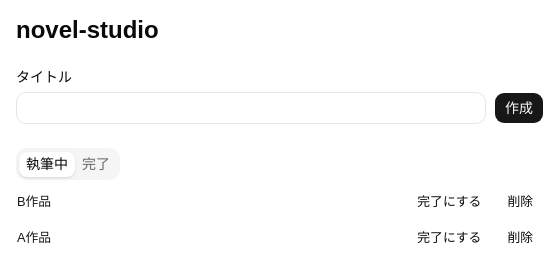
App の作品の画面 › 作品名を押すと、作品の画面に切り替わり、一覧と作品の作成フォームは消える
Click the button "B作品". click: (34, 202)
box: [16,192,52,212]
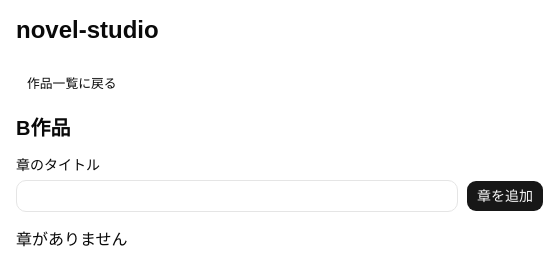
Check: the heading "B作品" is shown, box [16,117,70,139]
Check: the field labelled "章のタイトル" is shown, box [16,180,458,212]
Check: the tab is gone
